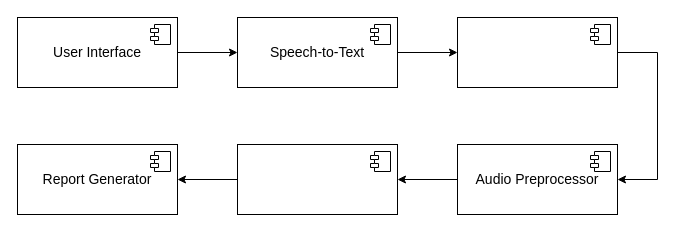
The diagram is 683 pixels wide and 232 high, and some of its shapes have lost their labels. The centre of each missing label's shape, as x and y in pixels:
Sentiment Analyzer: point 317,179
Text-to-Speech: point 537,52
